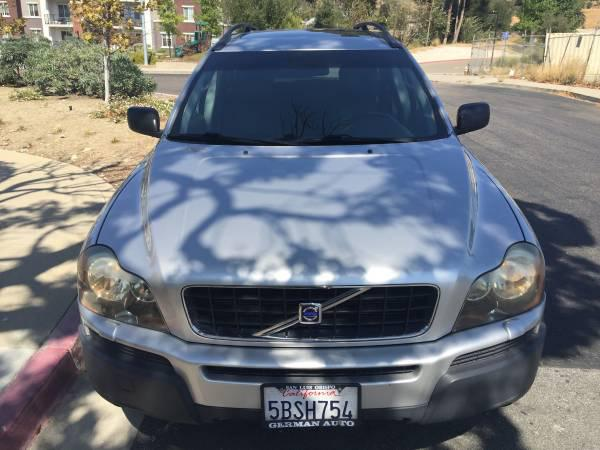volvo: (42, 12, 553, 449)
